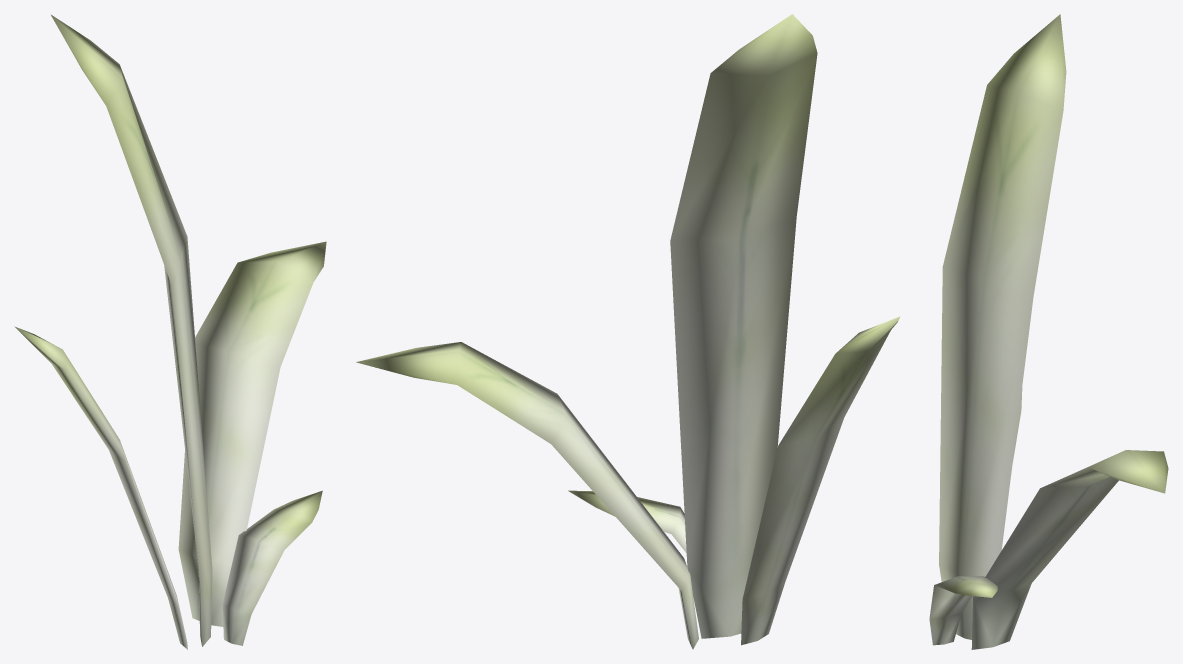
Rendered from Grass_A.fbx.
3 renders of one model, left to right at view 1: azimuth 30°, elevation 25°; view 2: azimuth 150°, elevation 25°; view 3: azimuth 270°, elevation 25°, orthographic. The views are drawn at different scales.
Parts seen in each view (by area): view 1: Grass_A; view 2: Grass_A; view 3: Grass_A.
Part boxes in pixels (x1,y1,x2,y2): Grass_A: (14,14,326,649); Grass_A: (356,14,900,649); Grass_A: (929,14,1168,649).
Bounding box in the file's own units: 46.34 × 68.13 × 25.7.
1 material, 1 textured.
